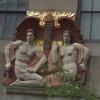Statue: (4, 15, 91, 92)
